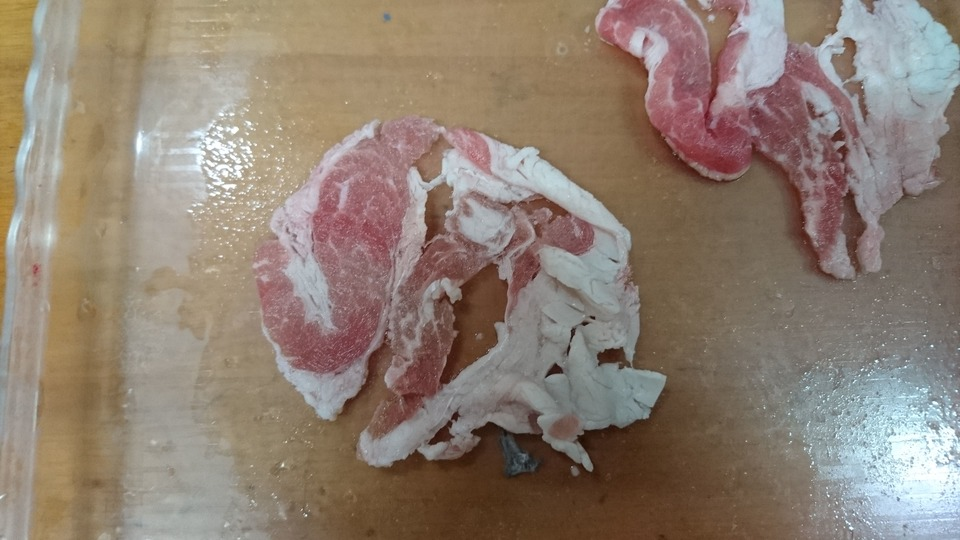restructured meat: (226, 117, 683, 485), (600, 1, 960, 283)
